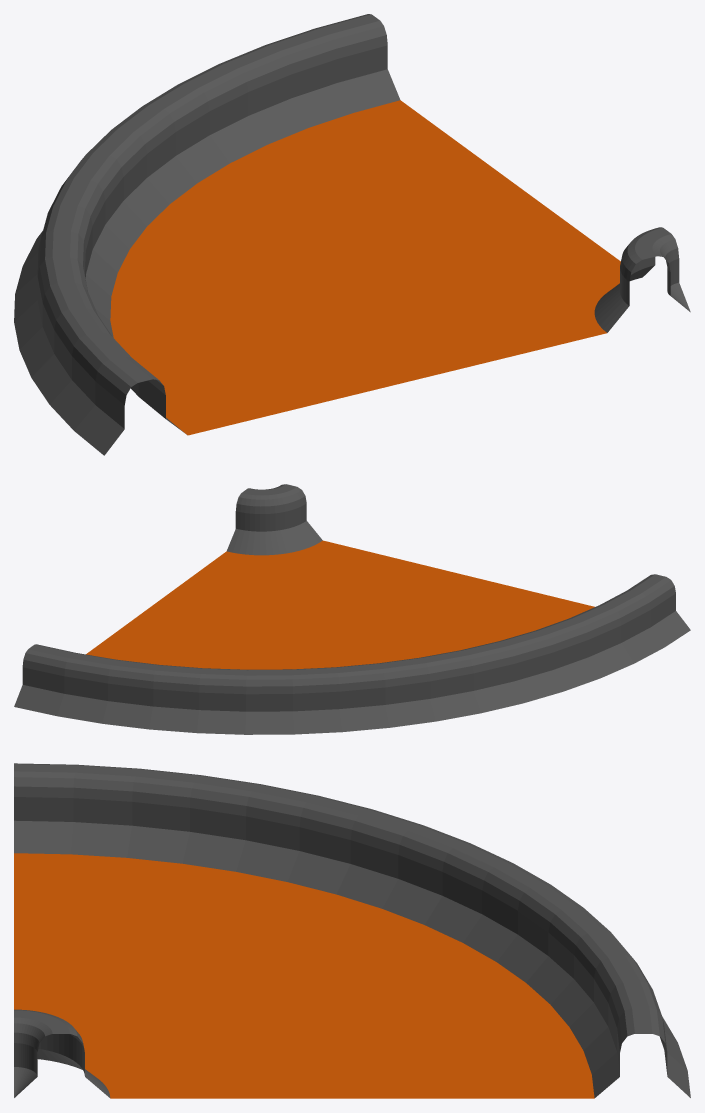
Rendered from RailConnector.fbx.
3 renders of one model, top to bottom at view 1: azimuth 30°, elevation 25°; view 2: azimuth 150°, elevation 25°; view 3: azimuth 270°, elevation 25°, orthographic. The views are drawn at different scales.
Parts seen in each view (by area): view 1: RailCorner; view 2: RailCorner; view 3: RailCorner.
Boxes of the visible parts, x1,y1,x2,y2 form: RailCorner: [14, 14, 690, 455]; RailCorner: [14, 484, 690, 734]; RailCorner: [14, 763, 690, 1098].
Size of the model in its own units: 0.9167 by 0.0967 by 0.9167.
